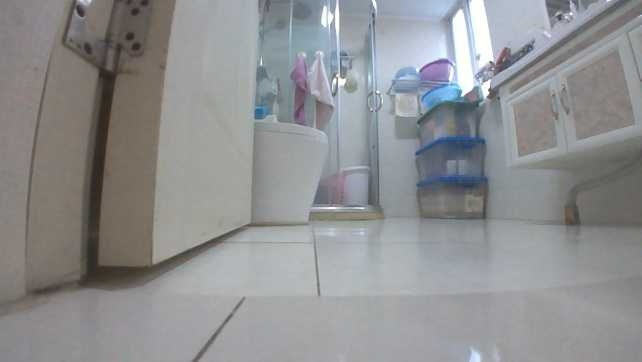door_sill: (310, 204, 385, 221)
toilet: (252, 118, 327, 225)
washstand: (487, 0, 640, 170)
